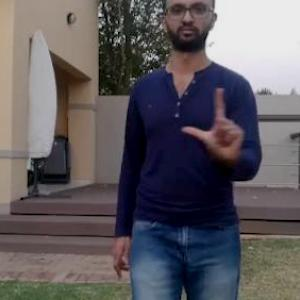land_hand: (180, 80, 258, 165)
